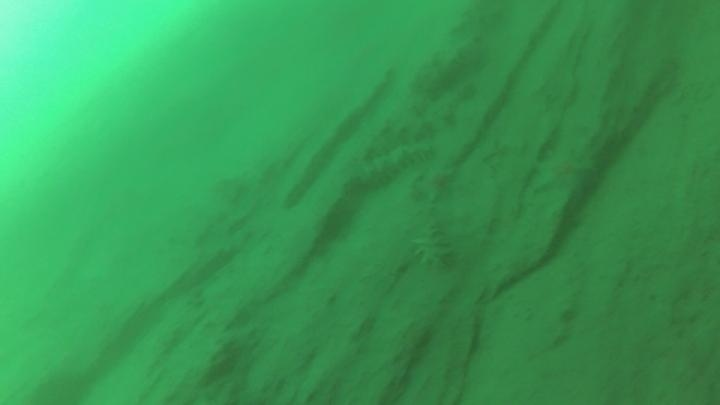holothurian: (346, 140, 437, 191), (407, 192, 456, 272)
starfish: (531, 144, 593, 200)
